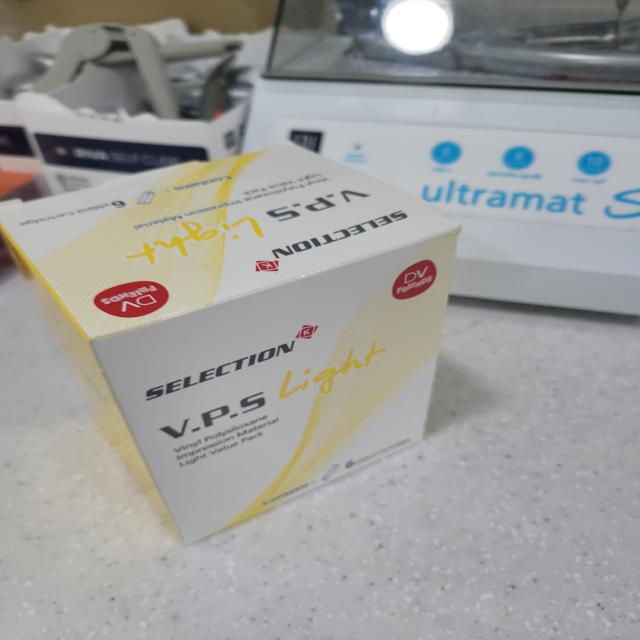impression: (0, 147, 498, 561)
